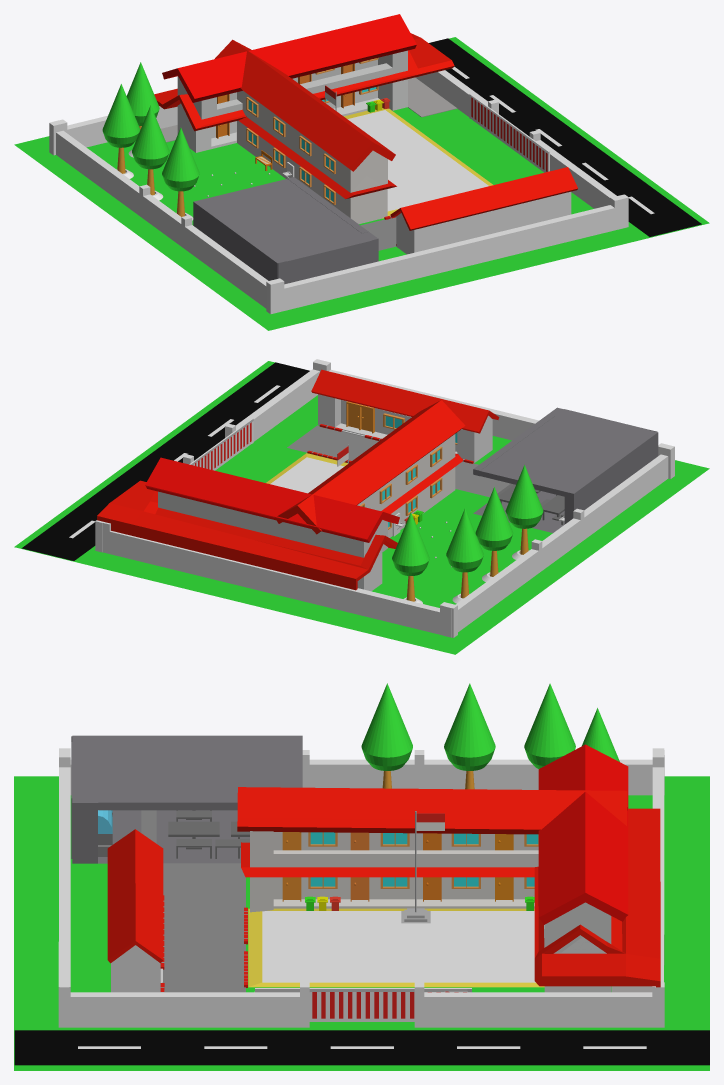
The model's file is lomba.glb.
3 renders of one model, top to bottom at view 1: azimuth 30°, elevation 25°; view 2: azimuth 150°, elevation 25°; view 3: azimuth 270°, elevation 25°, orthographic. The views are drawn at different scales.
Parts seen in each view (by area): view 1: Cube.002, Cube.018, Cube.054, Plane.001, atap, Plane, atap.001, atap.003, atap.002, Cube.036, Cube.016, gedung 1.001 (+14 smaller); view 2: Cube.002, Cube.018, atap.003, Cube.053, Plane.001, atap, atap.001, Cube.016, atap.002, gedung 2.001, Cube.017, Cube.059 (+12 smaller); view 3: Cube.002, Plane.001, Plane, Cube.018, atap.001, atap.003, atap, Cube.059, Cube.015, Cube.014, gedung 1.001, atap.002 (+14 smaller).
Part boxes in pixels (x1,y1,x2,y2): Cube.002: (14, 37, 709, 330); Cube.018: (193, 177, 378, 284); Cube.054: (266, 194, 628, 314); Plane.001: (429, 38, 701, 236); atap: (162, 14, 416, 102); Plane: (344, 108, 493, 218); atap.001: (214, 39, 395, 171); atap.003: (154, 33, 454, 198); atap.002: (390, 167, 577, 230); Cube.036: (396, 191, 571, 254); Cube.016: (139, 194, 279, 308); gedung 1.001: (236, 91, 387, 192); Cube.002: (14, 361, 709, 654); Cube.018: (473, 407, 658, 532); atap.003: (97, 453, 463, 590); Cube.053: (102, 522, 457, 637); Plane.001: (22, 362, 309, 560); atap: (145, 457, 399, 542); atap.001: (275, 400, 465, 534); Cube.016: (539, 444, 671, 572); atap.002: (311, 369, 499, 433); gedung 2.001: (158, 491, 387, 557); Cube.017: (443, 539, 542, 637); Cube.059: (287, 425, 510, 497); Cube.002: (14, 776, 709, 1070); Plane.001: (14, 1030, 709, 1065); Plane: (248, 908, 544, 987); Cube.018: (71, 735, 302, 863); atap.001: (237, 787, 627, 834); atap.003: (241, 808, 660, 987); atap: (538, 744, 628, 924); Cube.059: (163, 863, 245, 992); Cube.015: (59, 982, 309, 1027); Cube.014: (414, 982, 664, 1027); gedung 1.001: (250, 831, 538, 867); atap.002: (107, 829, 163, 963).
Bounding box in the file's own units: 47.67 × 9.55 × 47.59.
